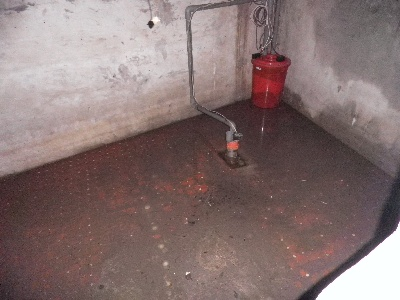bucket: (249, 62, 290, 109)
